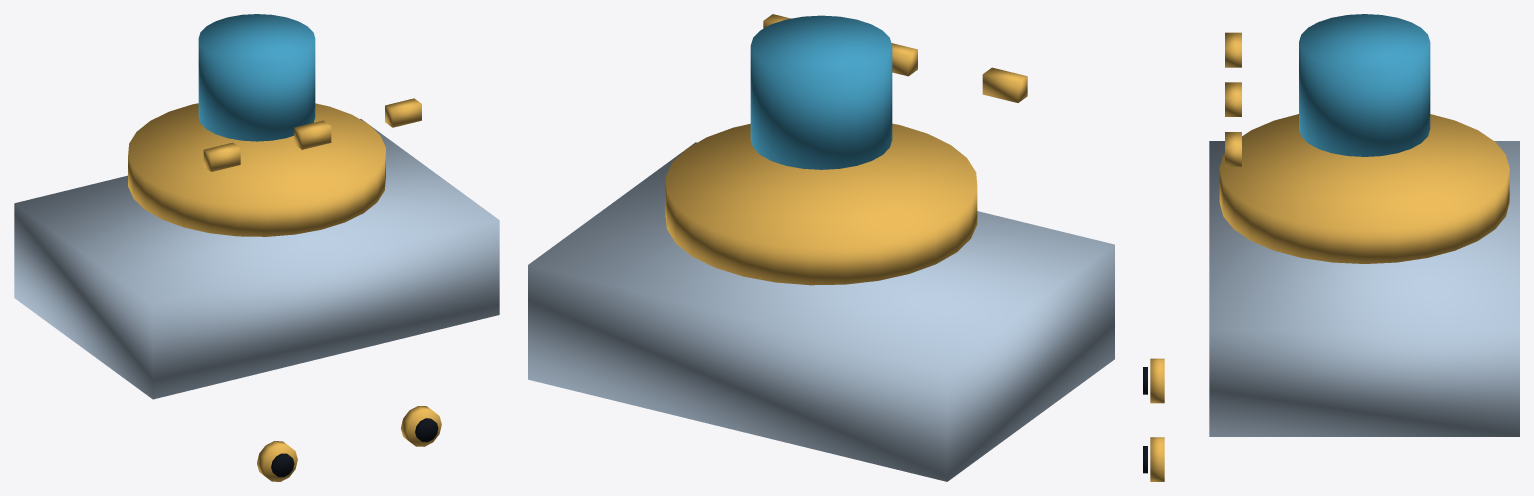
The model's file is 80_L93_PrecisionMicrobalance.fbx.
The picture shows the model from 3 angles, left to right: view 1: azimuth 30°, elevation 25°; view 2: azimuth 150°, elevation 25°; view 3: azimuth 270°, elevation 25°; orthographic projection. The views are drawn at different scales.
Parts seen in each view (by area): view 1: L92_PrecisionMicrobalance_Part_0000, L92_PrecisionMicrobalance_Part_0001, L92_PrecisionMicrobalance_Part_0002, L92_PrecisionMicrobalance_Part_0003, L92_PrecisionMicrobalance_Part_0006, L92_PrecisionMicrobalance_Part_0004; view 2: L92_PrecisionMicrobalance_Part_0000, L92_PrecisionMicrobalance_Part_0001, L92_PrecisionMicrobalance_Part_0002, L92_PrecisionMicrobalance_Part_0003; view 3: L92_PrecisionMicrobalance_Part_0000, L92_PrecisionMicrobalance_Part_0001, L92_PrecisionMicrobalance_Part_0002, L92_PrecisionMicrobalance_Part_0003, L92_PrecisionMicrobalance_Part_0004, L92_PrecisionMicrobalance_Part_0006.
Part boxes in pixels (x1,y1,x2,y2): L92_PrecisionMicrobalance_Part_0000: (14,119,499,399); L92_PrecisionMicrobalance_Part_0001: (128,103,385,236); L92_PrecisionMicrobalance_Part_0002: (198,14,315,141); L92_PrecisionMicrobalance_Part_0003: (203,98,421,171); L92_PrecisionMicrobalance_Part_0006: (401,406,441,446); L92_PrecisionMicrobalance_Part_0004: (257,441,297,481); L92_PrecisionMicrobalance_Part_0000: (528,142,1114,481); L92_PrecisionMicrobalance_Part_0001: (665,123,977,285); L92_PrecisionMicrobalance_Part_0002: (750,15,892,169); L92_PrecisionMicrobalance_Part_0003: (763,14,1027,102); L92_PrecisionMicrobalance_Part_0000: (1209,141,1519,436); L92_PrecisionMicrobalance_Part_0001: (1219,114,1509,263); L92_PrecisionMicrobalance_Part_0002: (1299,14,1430,156); L92_PrecisionMicrobalance_Part_0003: (1225,32,1241,166); L92_PrecisionMicrobalance_Part_0004: (1150,358,1164,403); L92_PrecisionMicrobalance_Part_0006: (1150,437,1164,481).
Size of the model in its own units: 130 by 128 by 109.
